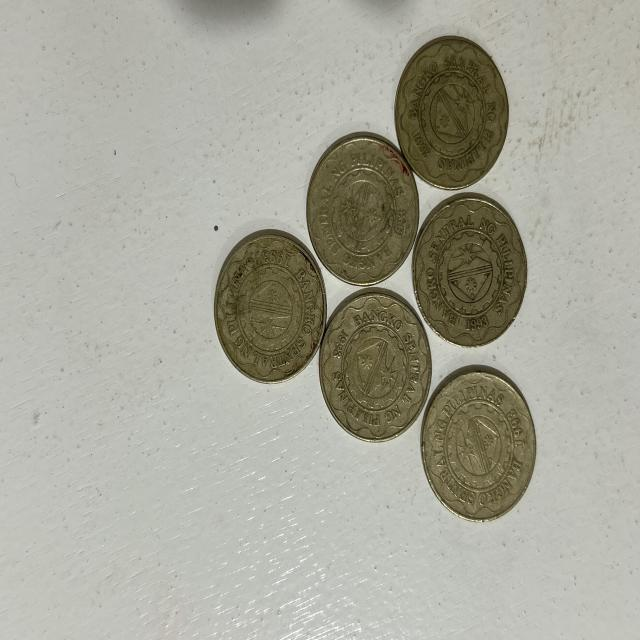5_Old_Back: (423, 371, 538, 518), (321, 292, 431, 438), (399, 36, 509, 181), (310, 141, 418, 287), (216, 232, 322, 380), (419, 201, 525, 338)
